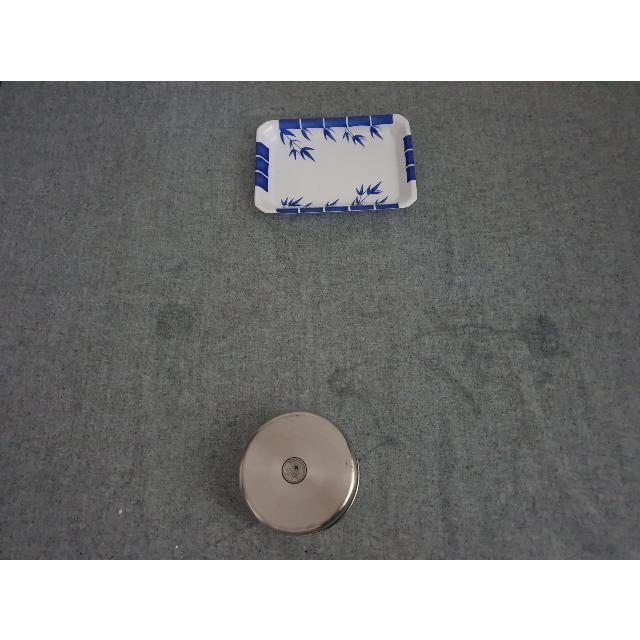Plastico descartable: (254, 114, 419, 220), (239, 412, 360, 536)
